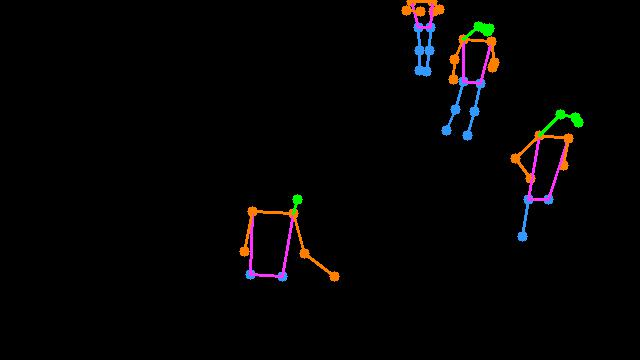normal: (501, 89, 591, 253), (438, 14, 495, 151), (400, 1, 447, 85)
